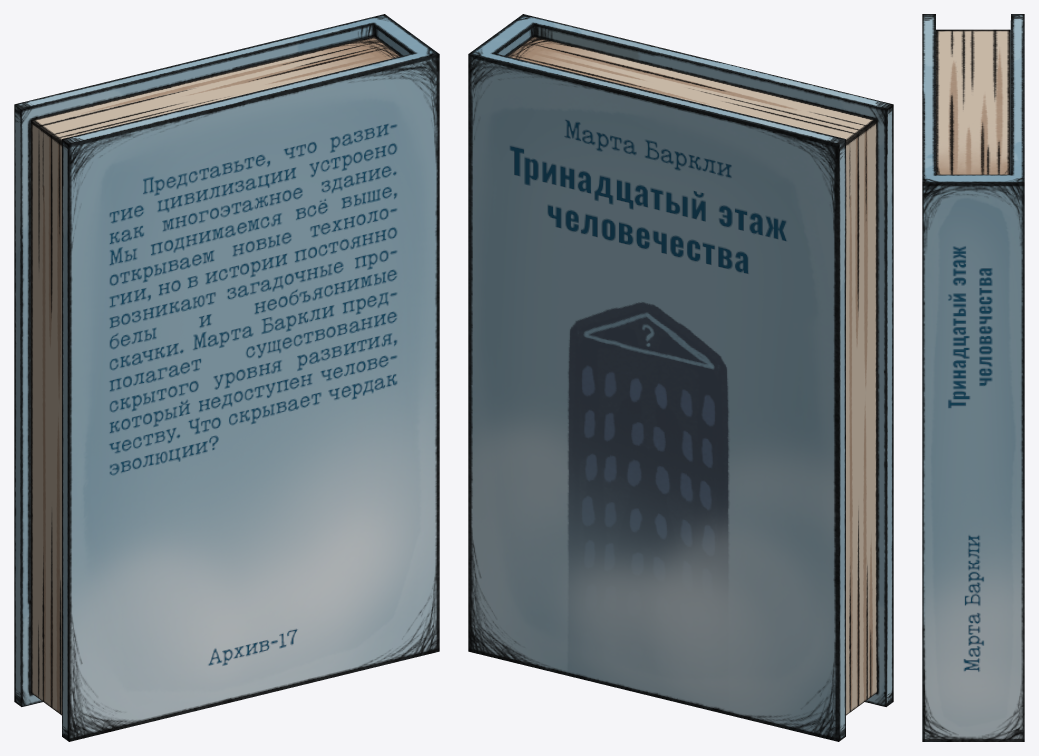
Rendered from book_2.fbx.
The picture shows the model from 3 angles, left to right: view 1: azimuth 30°, elevation 25°; view 2: azimuth 150°, elevation 25°; view 3: azimuth 270°, elevation 25°; orthographic projection. The views are drawn at different scales.
Parts seen in each view (by area): view 1: book_1; view 2: book_1; view 3: book_1.
Boxes of the visible parts, <box> form: book_1: <box>14,14,439,741</box>; book_1: <box>468,14,893,741</box>; book_1: <box>922,14,1024,741</box>.
Bounding box in the file's own units: 29.92 × 46.11 × 7.66.
1 material, 1 textured.
